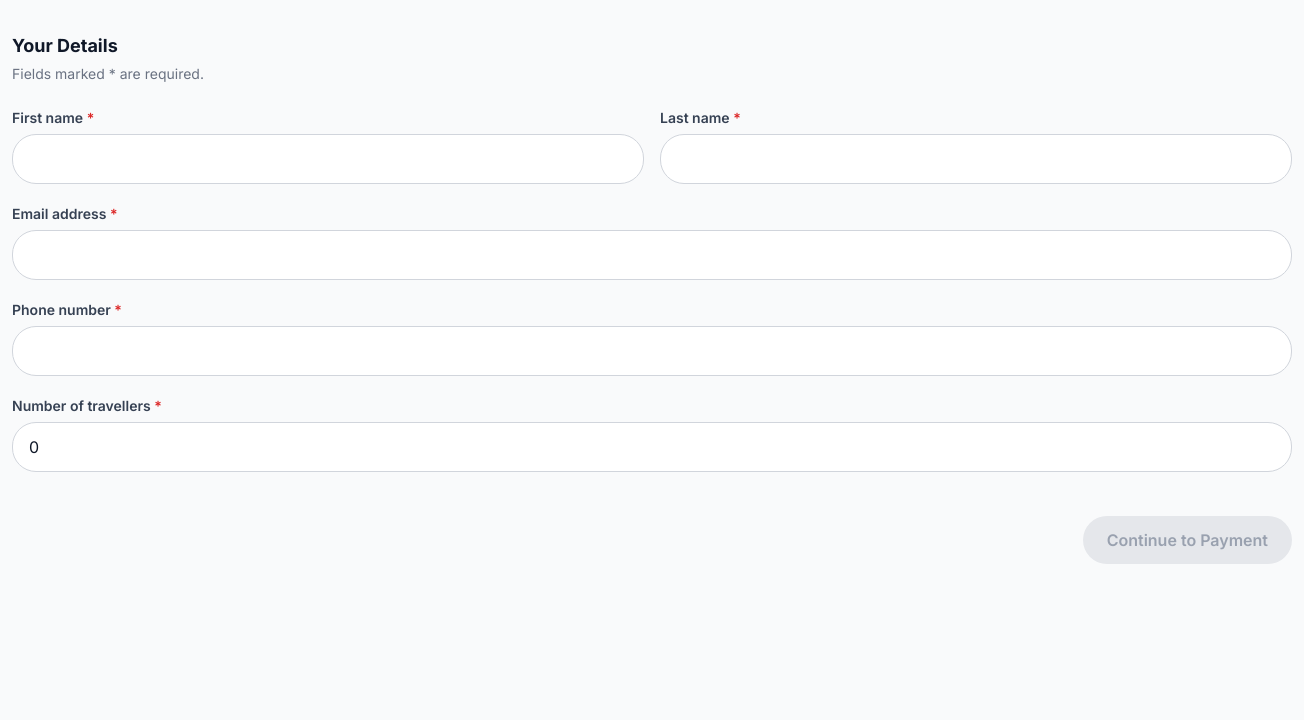
Test: TravellerForm › Validation errors — invalid values (button enabled, Zod fires on submit) › shows an email format error for a non-email string
Type "Jane" into the field labelled "First name *" at (328, 159), box [12,134,644,184]
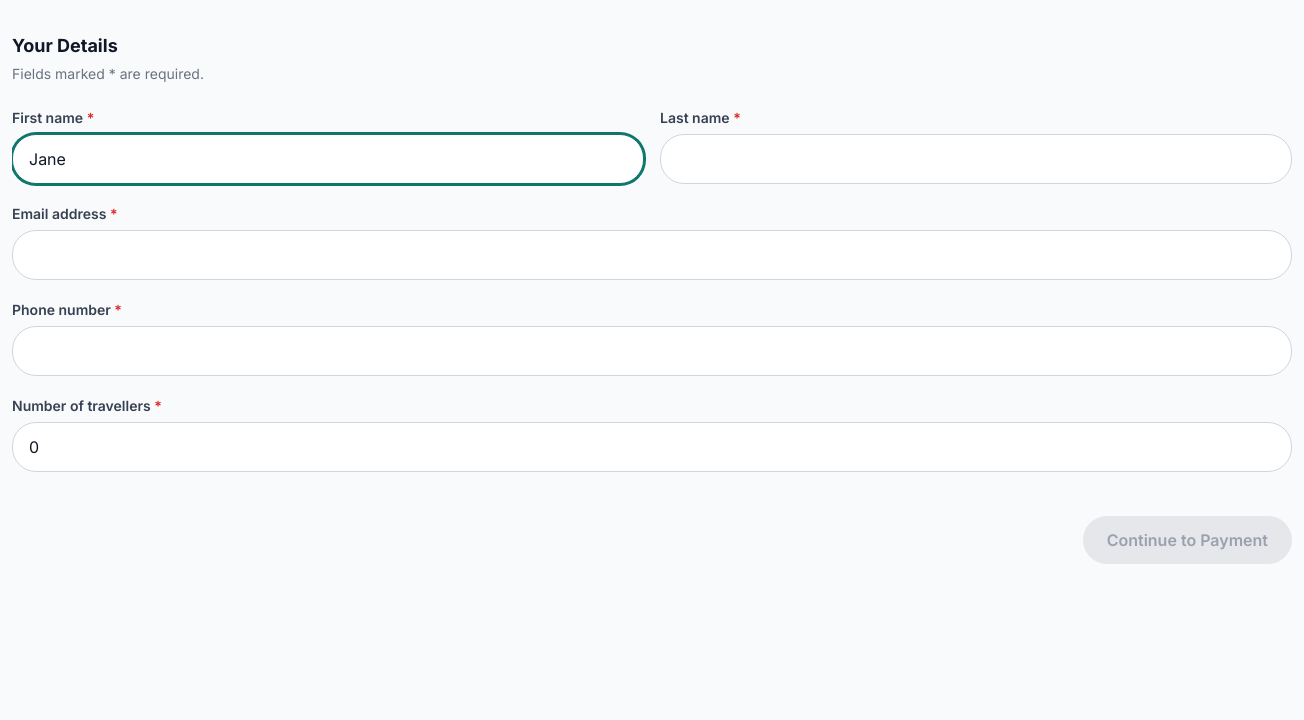
Type "Smith" into the field labelled "Last name *" at (976, 159), box [660,134,1292,184]
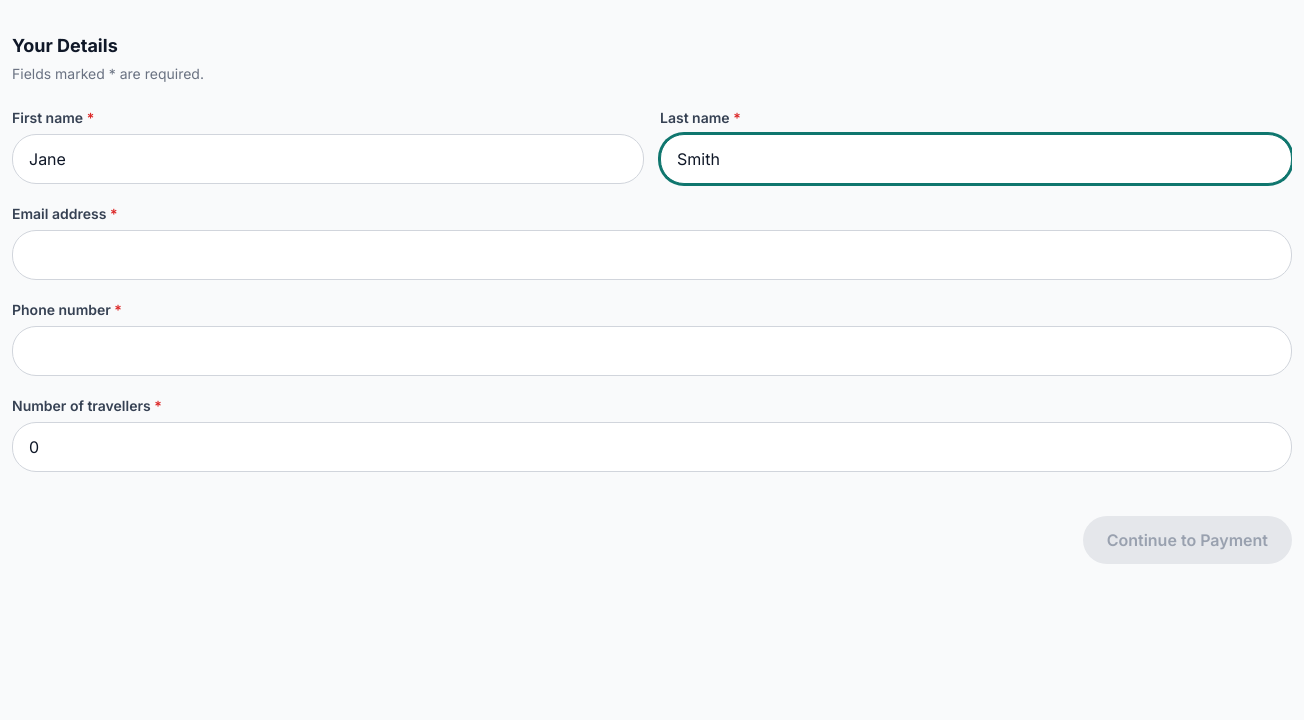
Type "not-an-email" into the field labelled "Email address *" at (652, 255), box [12,230,1292,280]
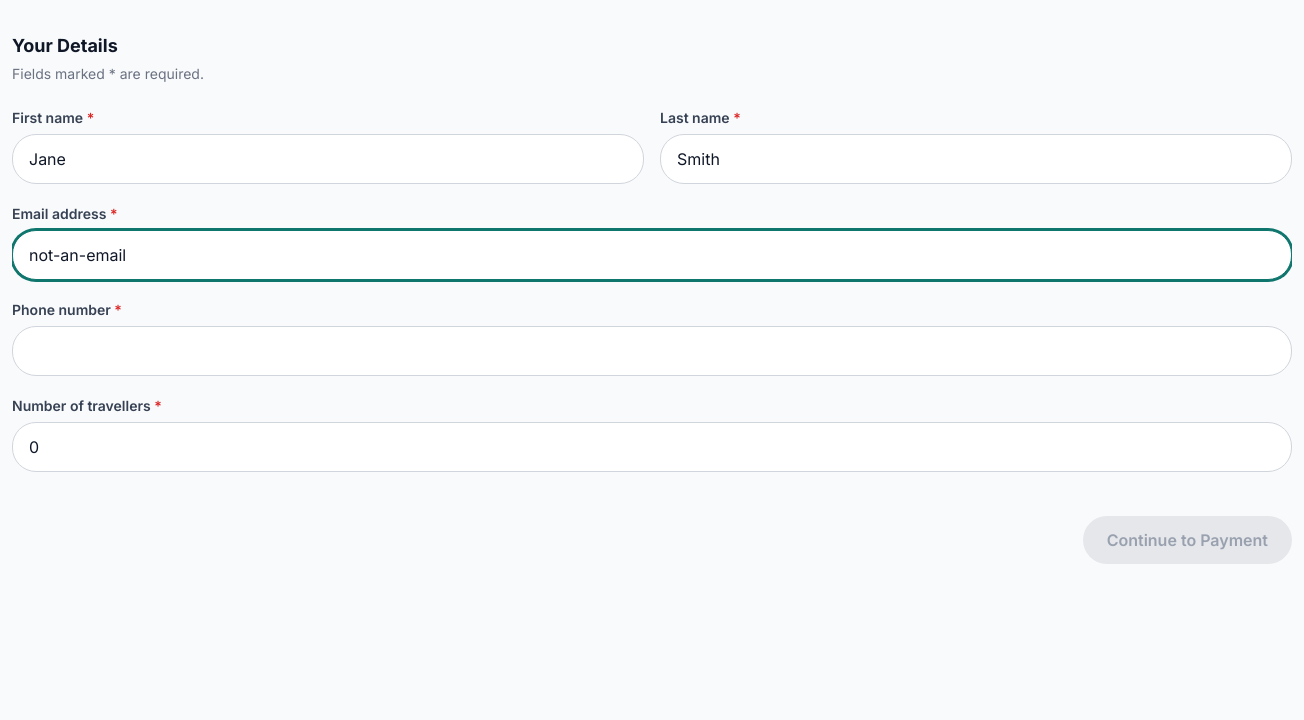
Type "+44 7700 900000" into the field labelled "Phone number *" at (652, 351), box [12,326,1292,376]
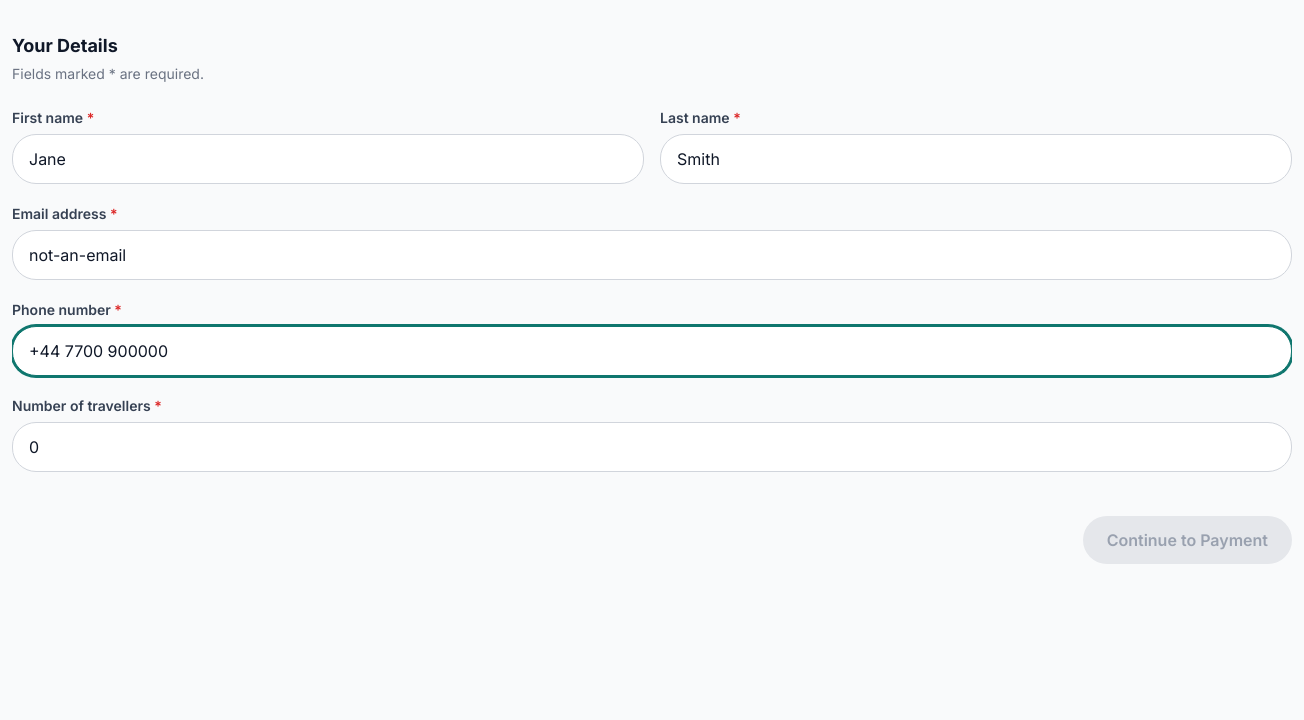
Replace the text in the number field labelled "Number of travellers *" with "2" at (652, 447), box [12,422,1292,472]
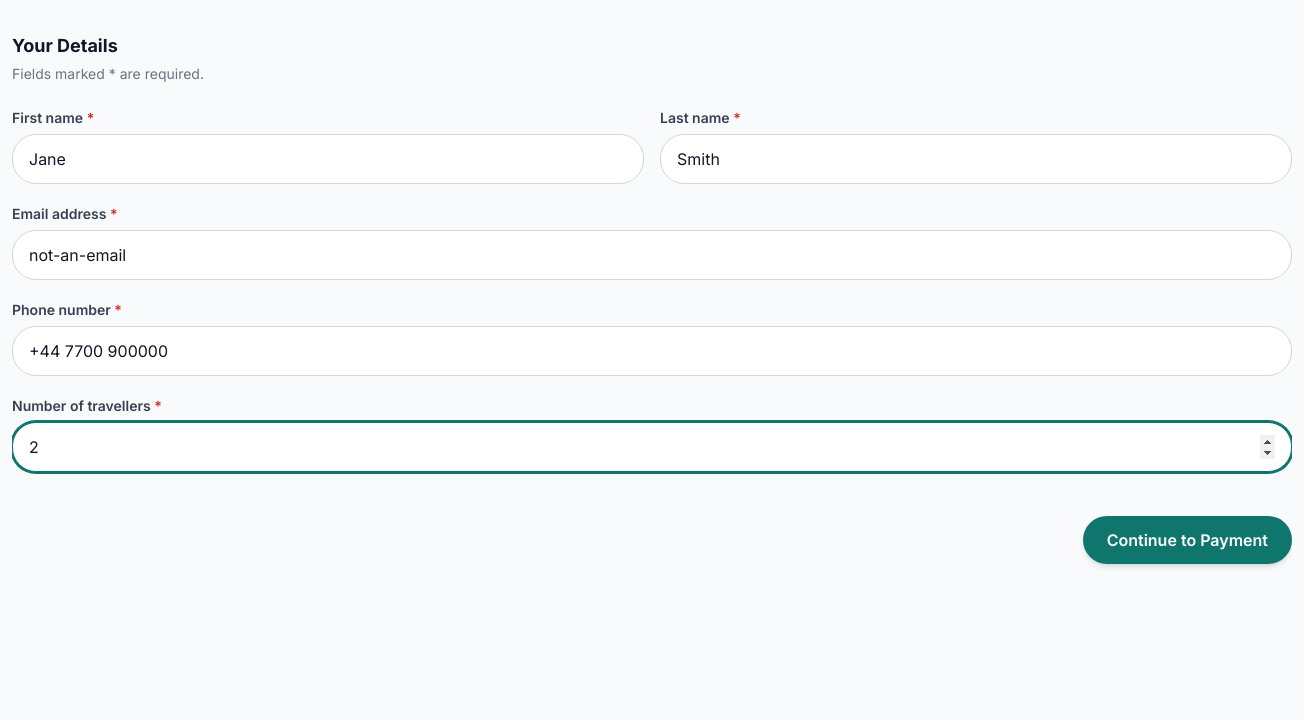
Click the button "Continue to Payment" at (1187, 540), box [1083,516,1292,564]
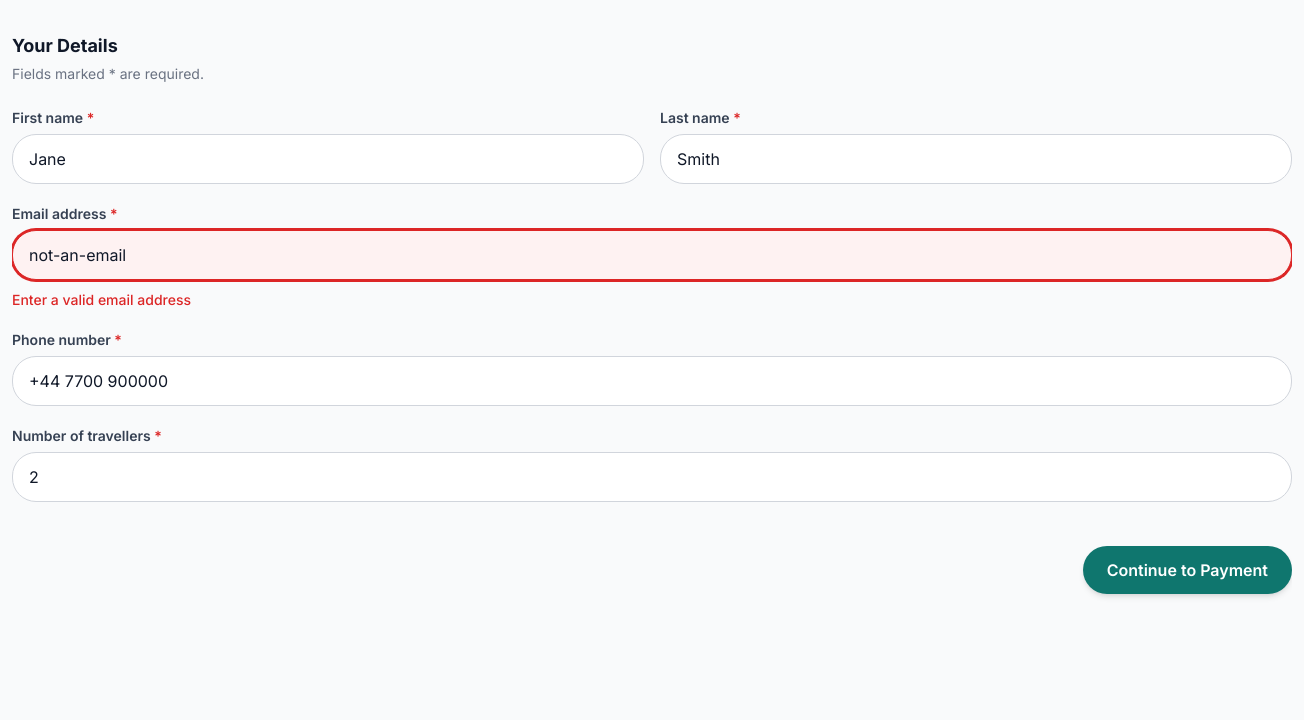
Check: the text "Enter a valid email address" is shown, box [12,291,191,308]
